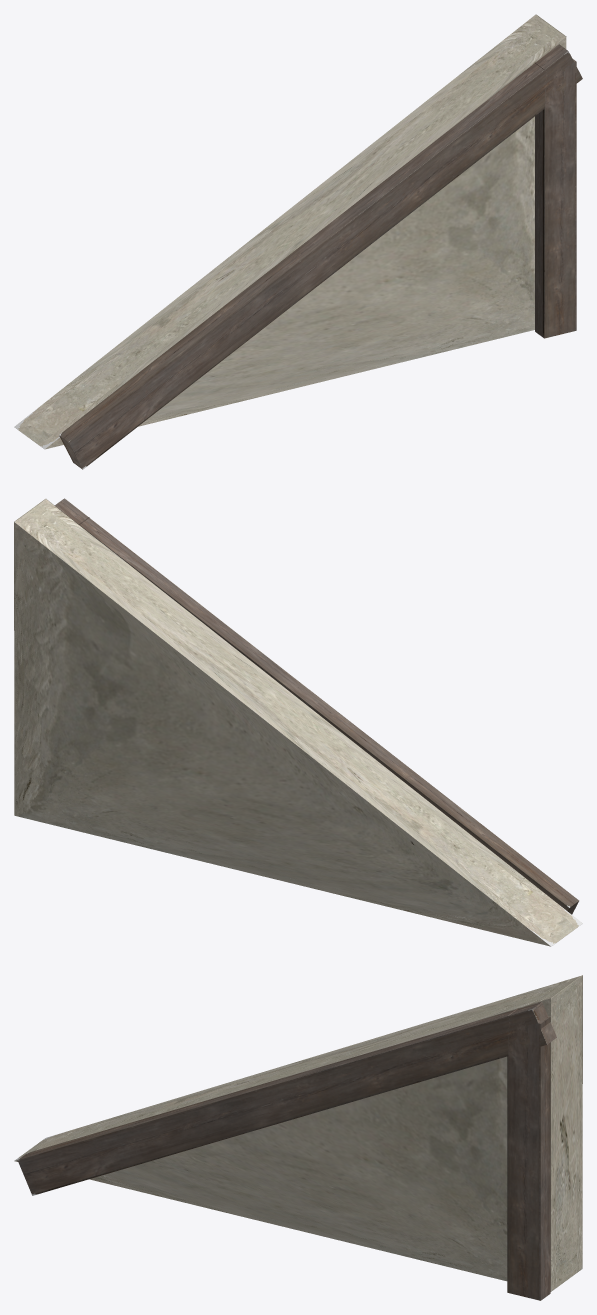
File: pared_1_punta_R.fbx
3 renders of one model, top to bottom at view 1: azimuth 30°, elevation 25°; view 2: azimuth 150°, elevation 25°; view 3: azimuth 330°, elevation 25°, orthographic. The views are drawn at different scales.
Parts seen in each view (by area): view 1: pared_1_punta_R; view 2: pared_1_punta_R; view 3: pared_1_punta_R.
Part boxes in pixels (x1,y1,x2,y2): pared_1_punta_R: [14, 14, 582, 469]; pared_1_punta_R: [14, 498, 582, 946]; pared_1_punta_R: [14, 975, 582, 1300].
Bounding box in the file's own units: 404 × 223 × 54.16.
